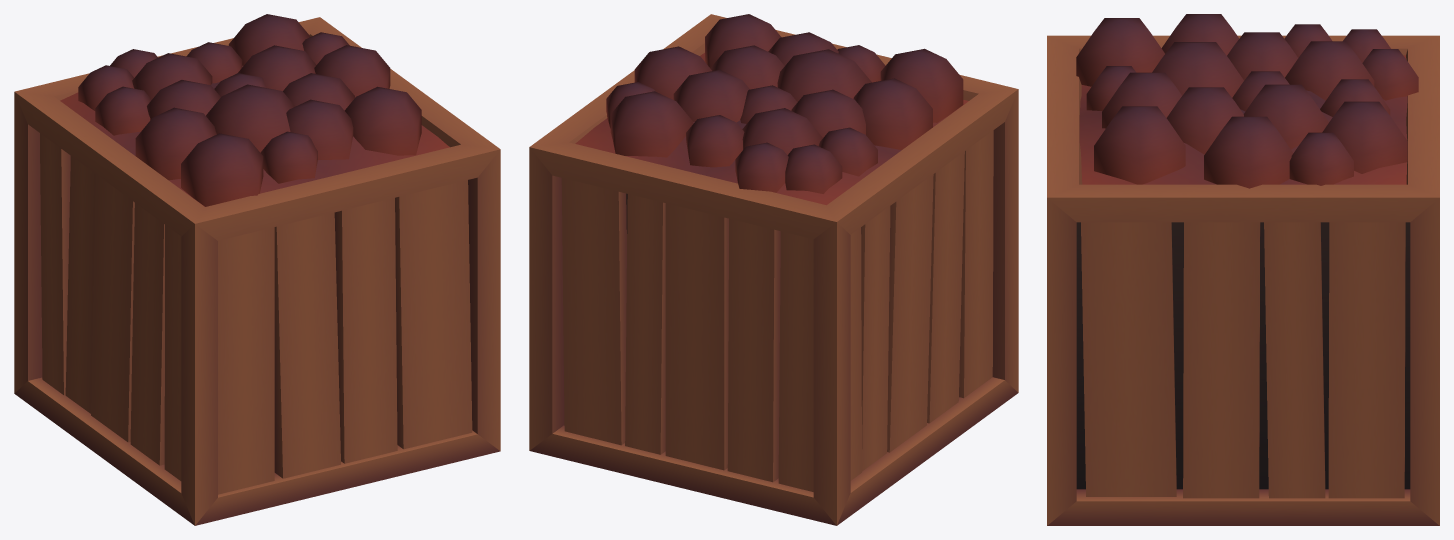
Rendered from Crate01.fbx.
3 renders of one model, left to right at view 1: azimuth 30°, elevation 25°; view 2: azimuth 150°, elevation 25°; view 3: azimuth 270°, elevation 25°, orthographic. The views are drawn at different scales.
Parts seen in each view (by area): view 1: Crate01; view 2: Crate01; view 3: Crate01.
Boxes of the visible parts, x1,y1,x2,y2 form: Crate01: (14,14,500,525); Crate01: (529,14,1018,525); Crate01: (1047,14,1439,525).
Bounding box in the file's own units: 101 × 113 × 104.
1 material, 1 textured.
